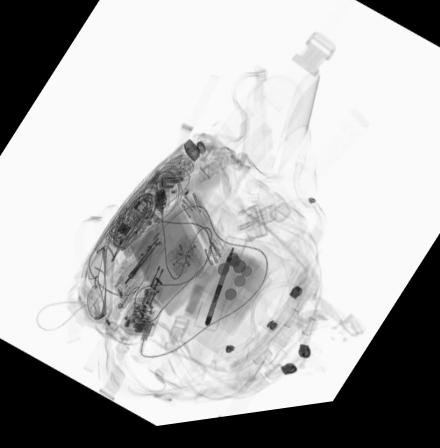Lighter: (130, 235, 161, 270)
